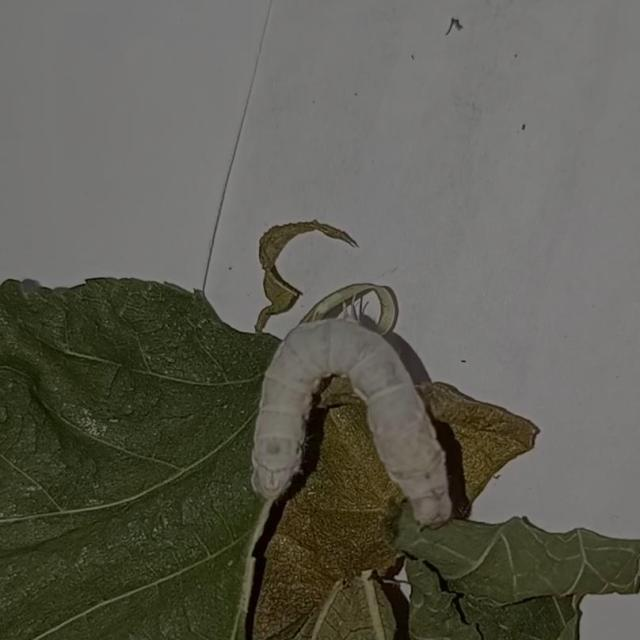Healthy: (241, 295, 469, 545)
